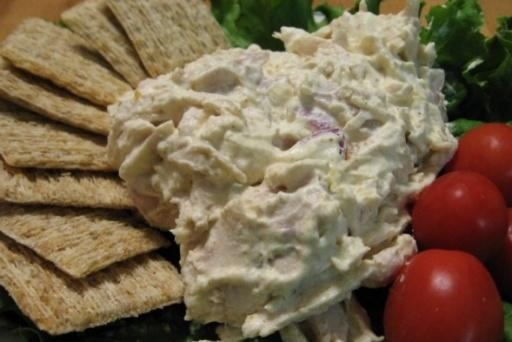background: (0, 0, 410, 183)
